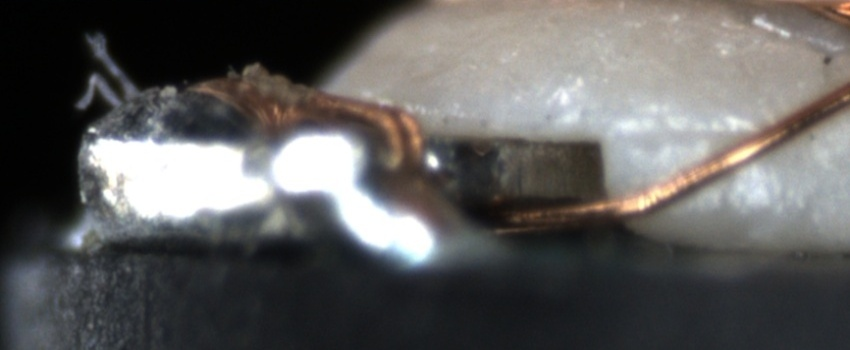DL: (605, 106, 849, 154)
TE: (280, 87, 435, 163)
